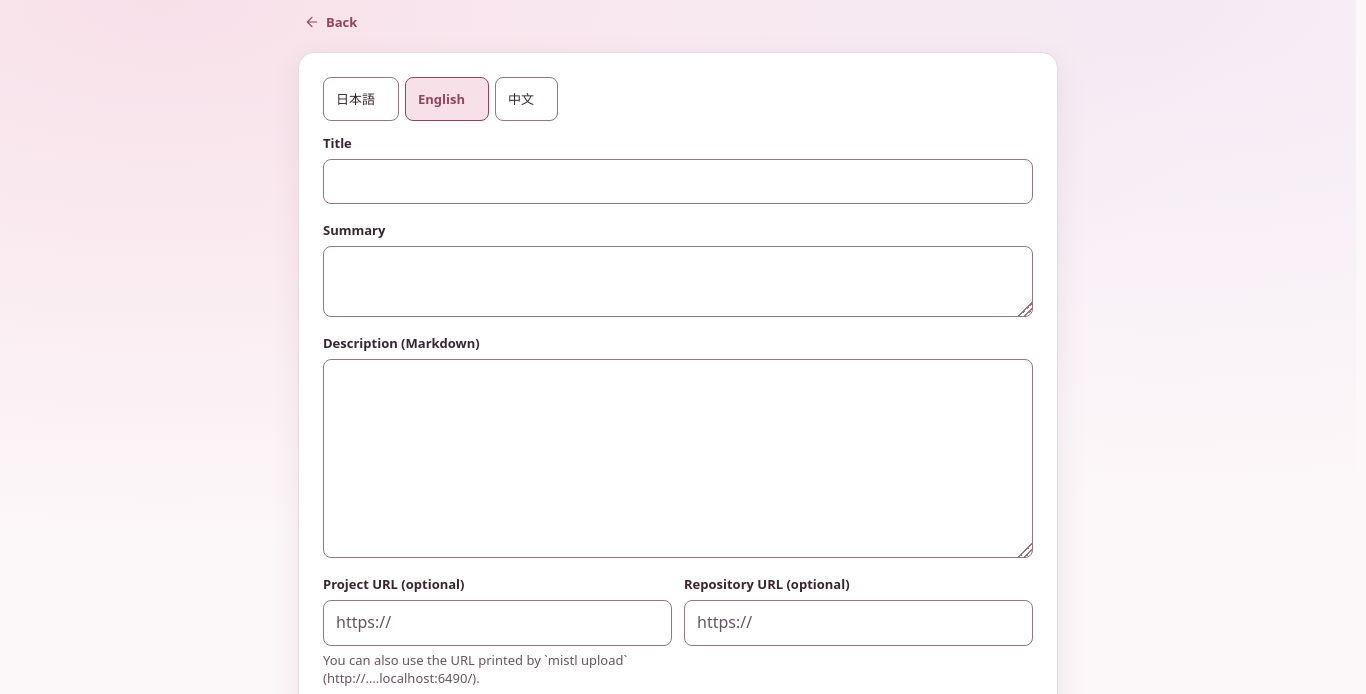
Test: still rejects a malformed URL when one is entered
Type "Game" into the field labelled "Title". click: (678, 182)
box: [323, 159, 1033, 204]
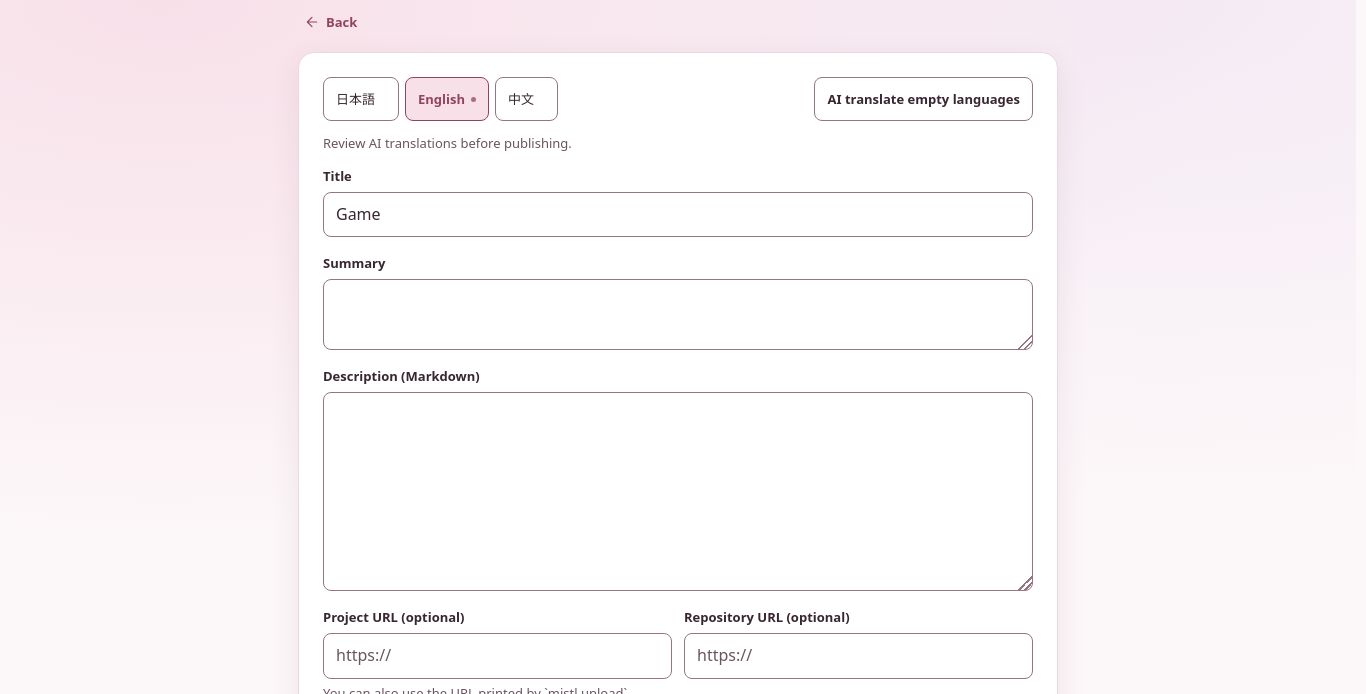
Type "Summary" into the text box labelled "Summary". click: (678, 315)
box: [323, 279, 1033, 350]
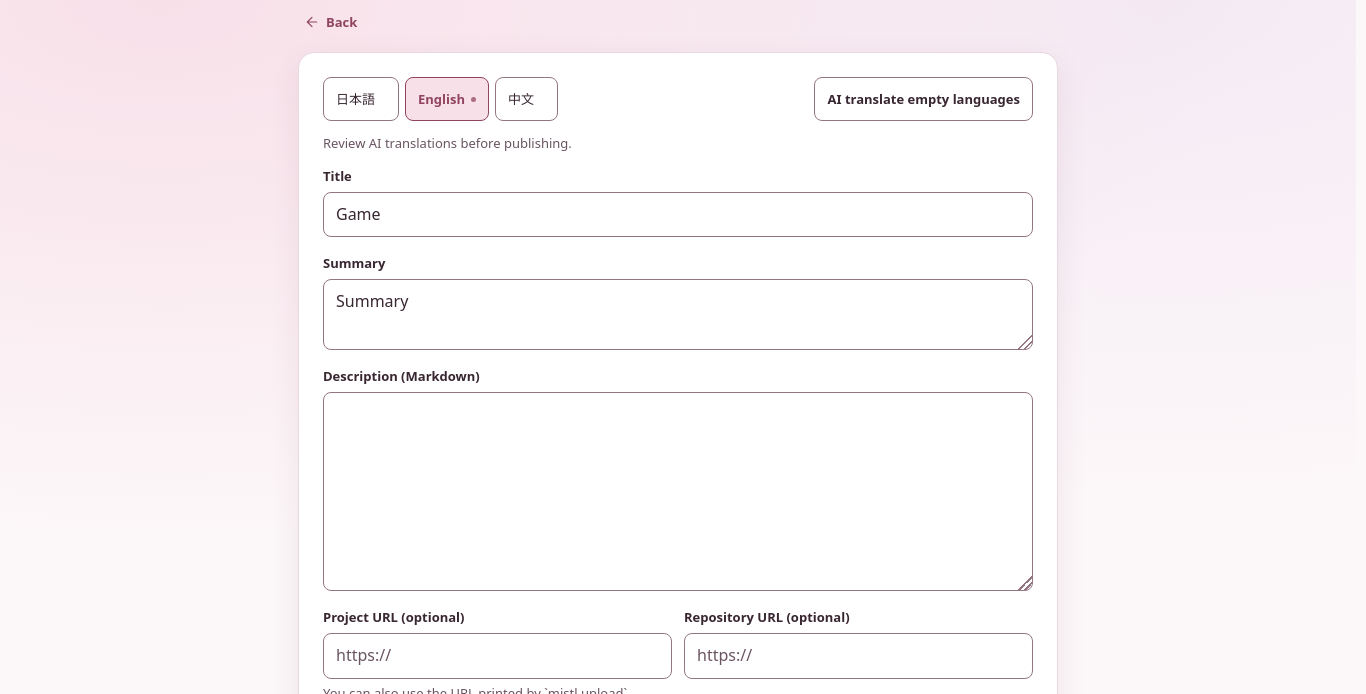
Type "not a URL" into the 2nd field. click: (498, 656)
box: [323, 633, 672, 678]
(page scrolled)
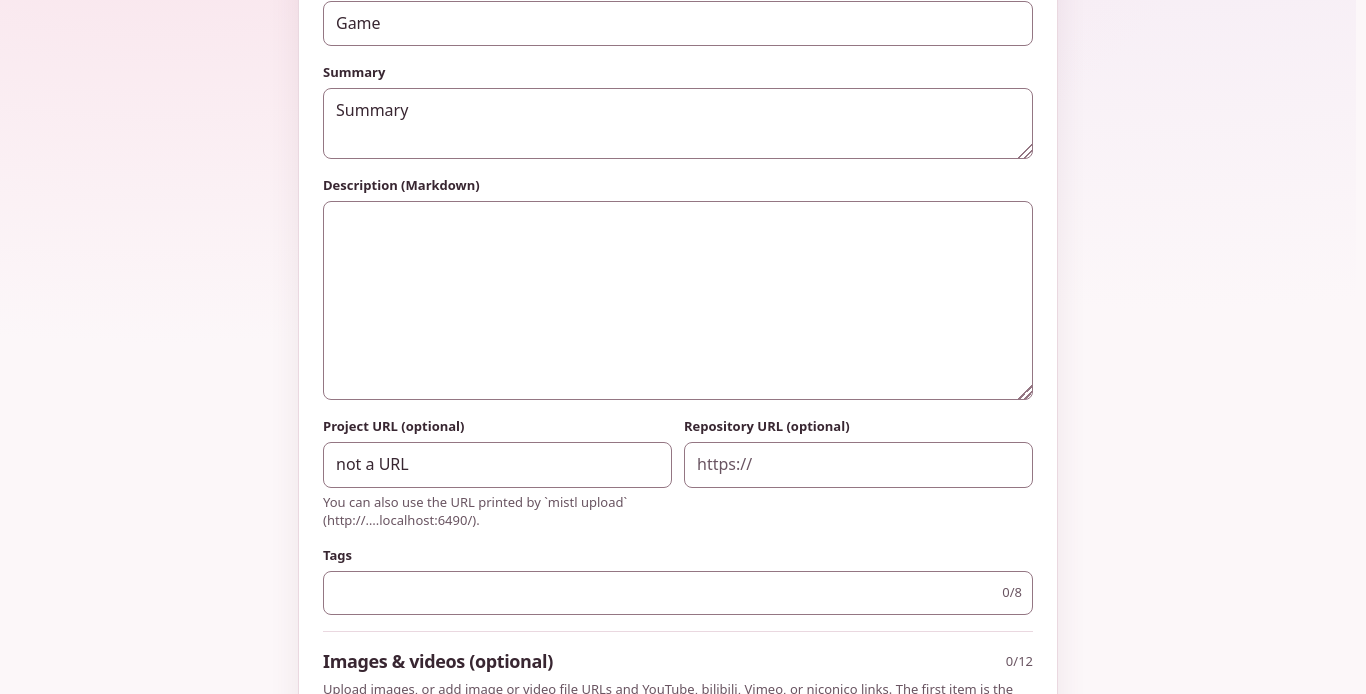
Submit the form
(page scrolled)
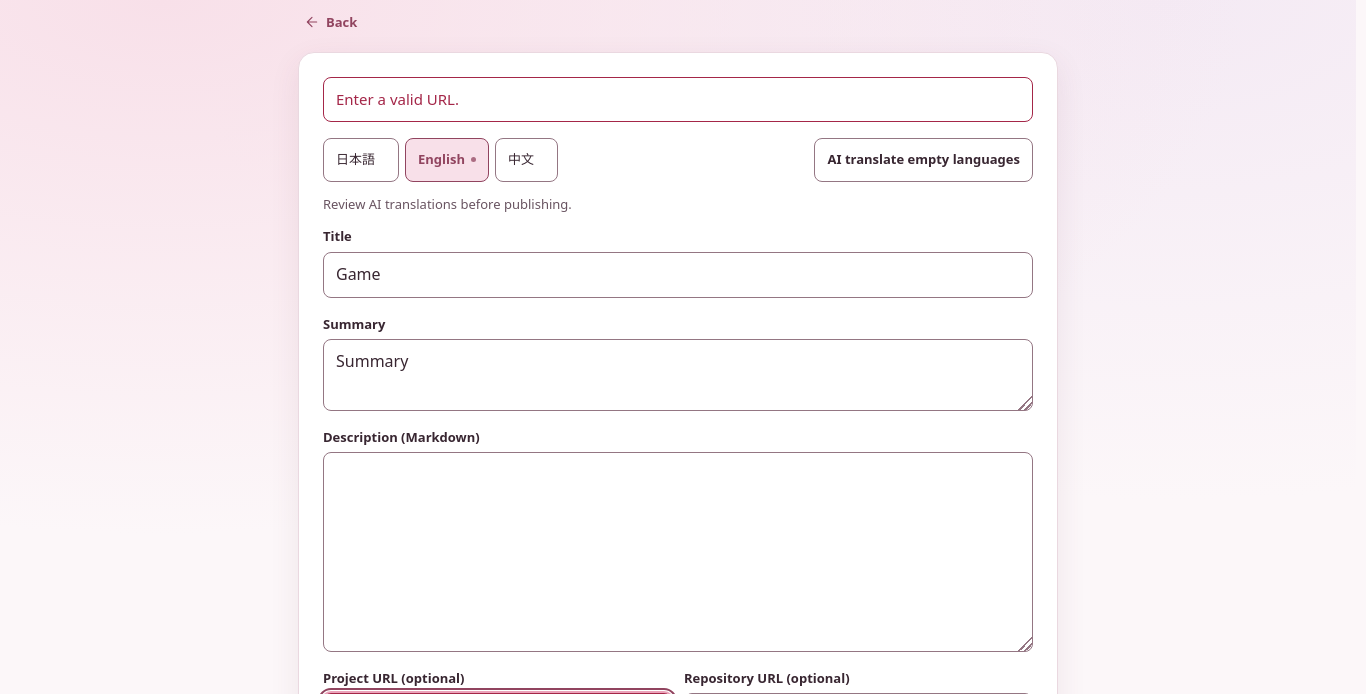
Expected: the message "Enter a valid URL." is shown, [323, 77, 1033, 122]
